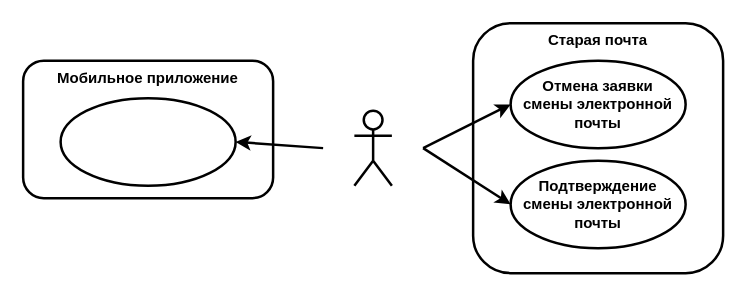
Image size: 745x295. Some labels were removed from this diagram. The shapes that lost their labels are listed below. From the top down, each one's centre as x and y in pixels, then its label:
(147,141): Заявка на смену электронной почты
(372,147): user
